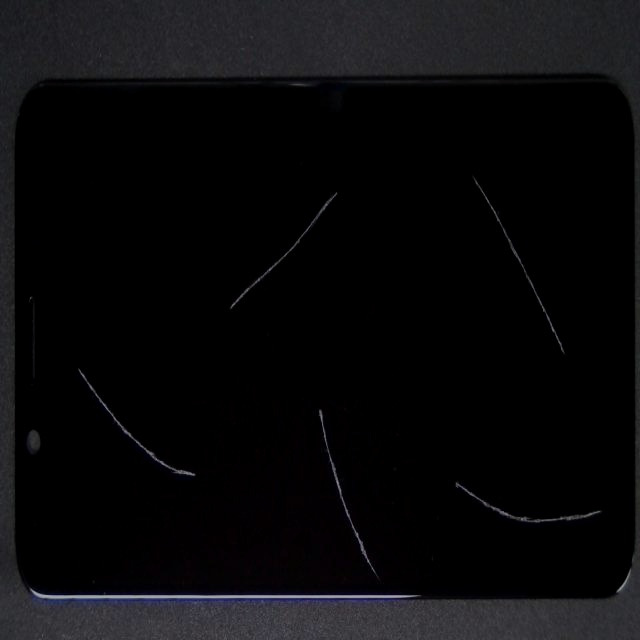scratch: (299, 283, 640, 640), (205, 317, 566, 640), (239, 15, 461, 313), (146, 246, 292, 640), (339, 287, 640, 432)
